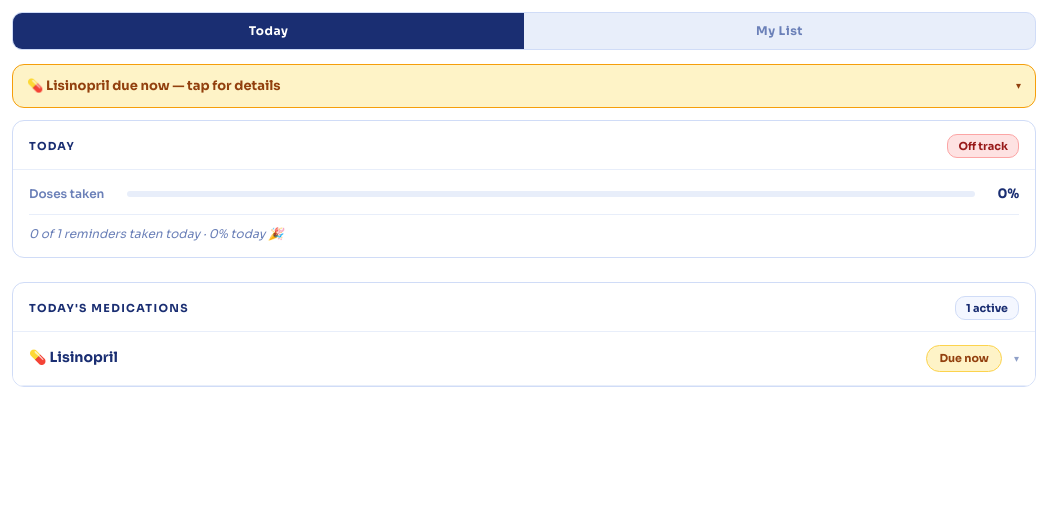
Test: MedicationList — Today view › clicking "Mark as taken" changes pill to "Taken ✓"
This screenshot has width=1048, height=517.
Note: Expand the row
Step 1. Click the text "💊 Lisinopril" → (73, 357), box [29, 348, 118, 366]
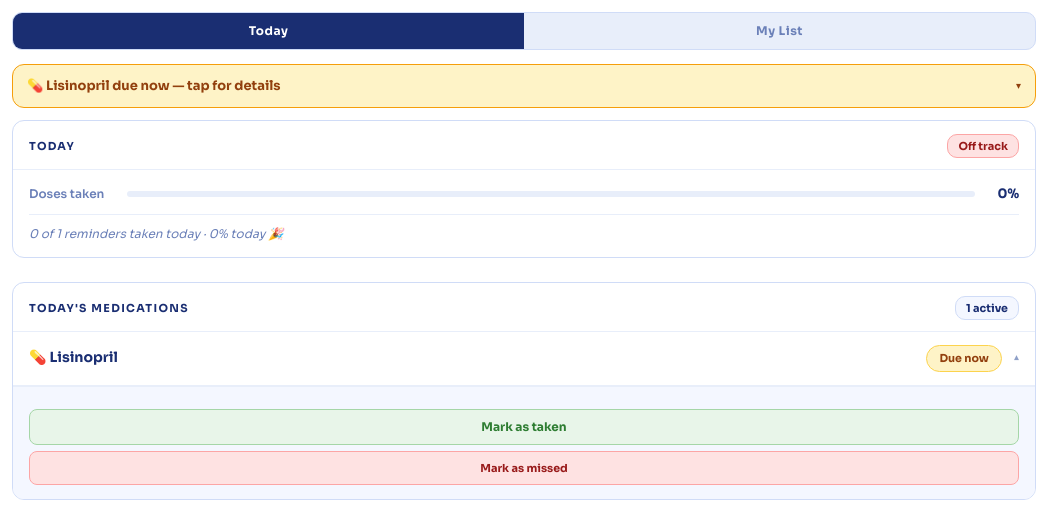
Step 2. Click the button "Mark as taken" → (524, 426), box [29, 408, 1019, 444]
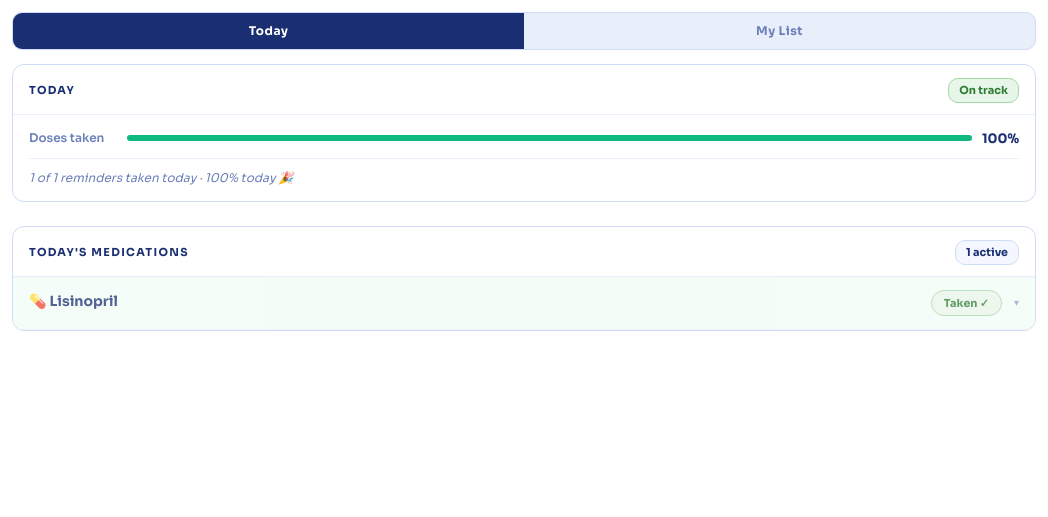
Now the text "Taken ✓" is shown, box [931, 290, 1002, 316]
